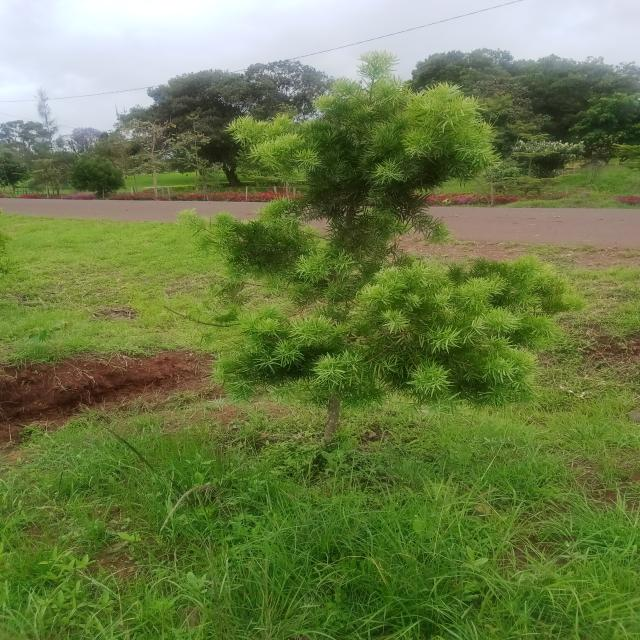Podocarpus falcatus: (199, 54, 583, 463)
